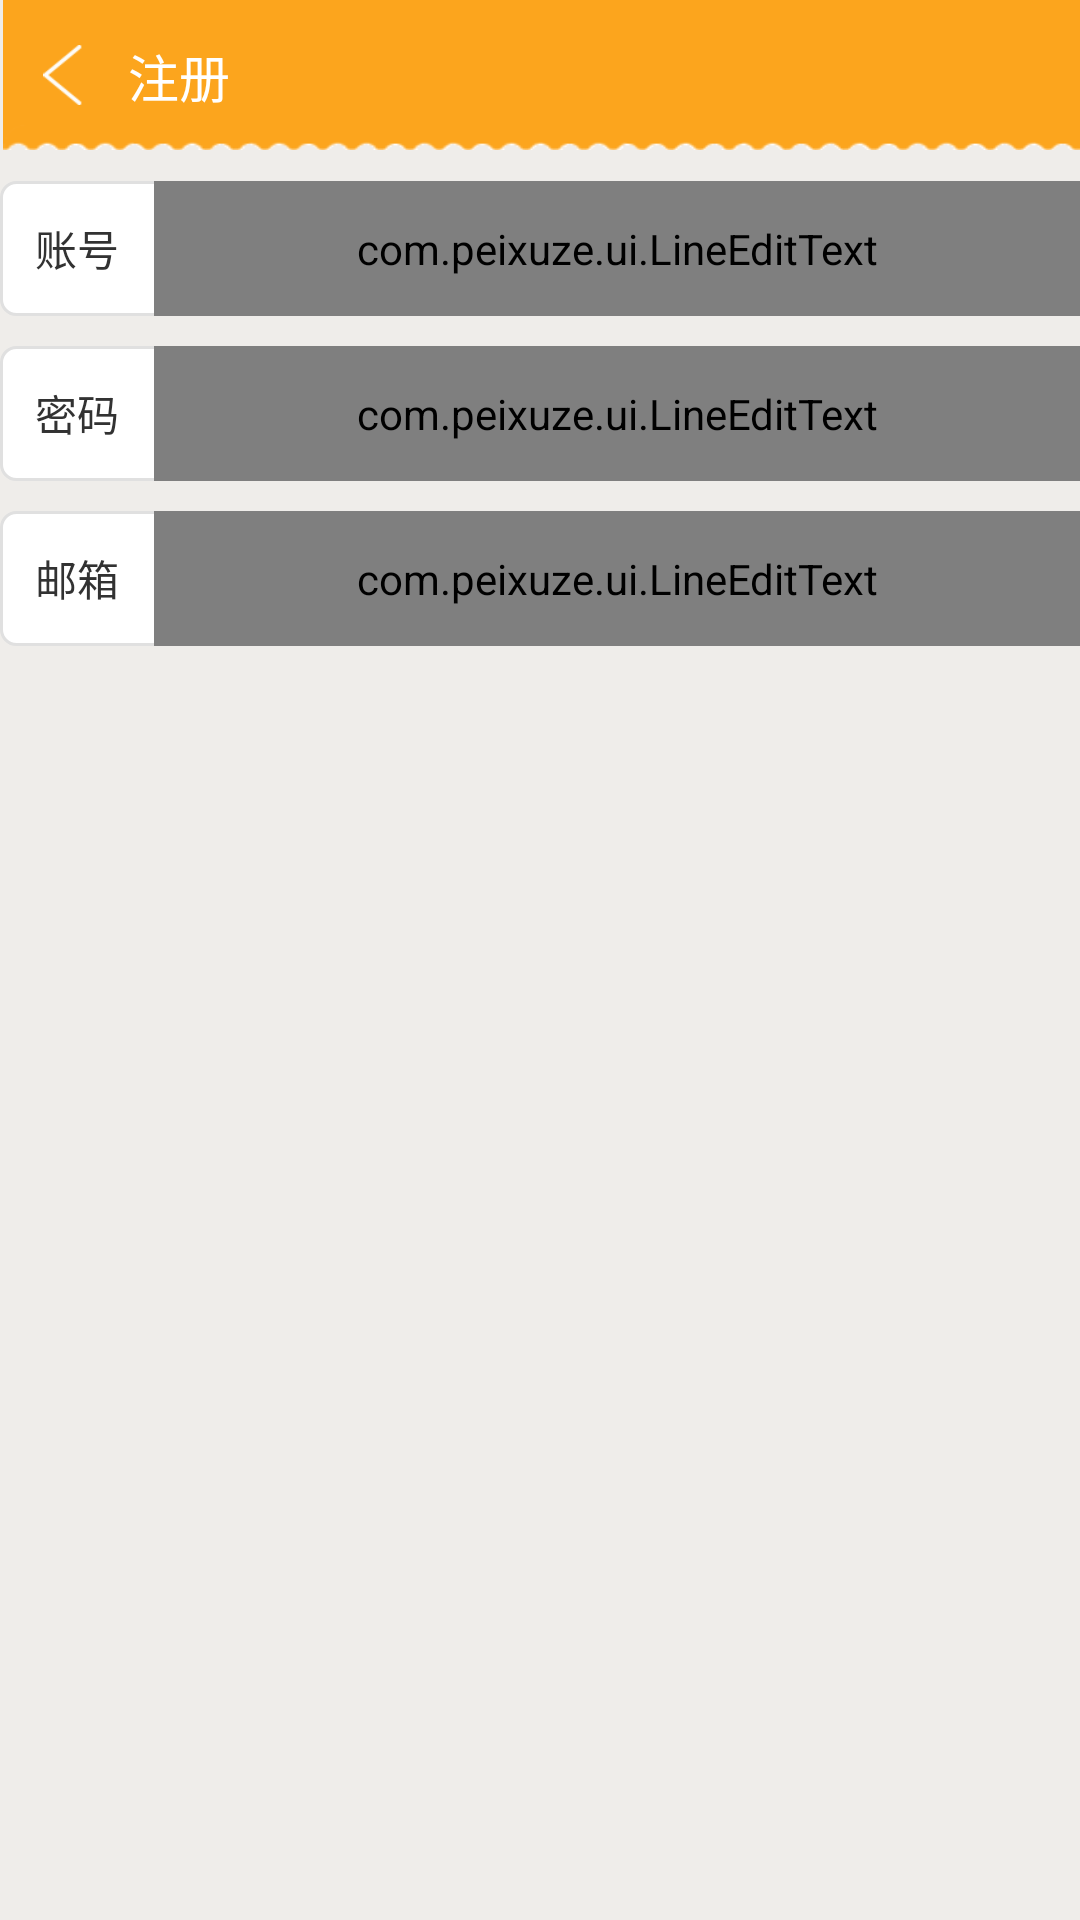

Named icons in this screenshot (1080x1920) and their bounding boxes, (x1, y1, x2, y2):
imageview arrow back: (43, 45, 82, 105)
